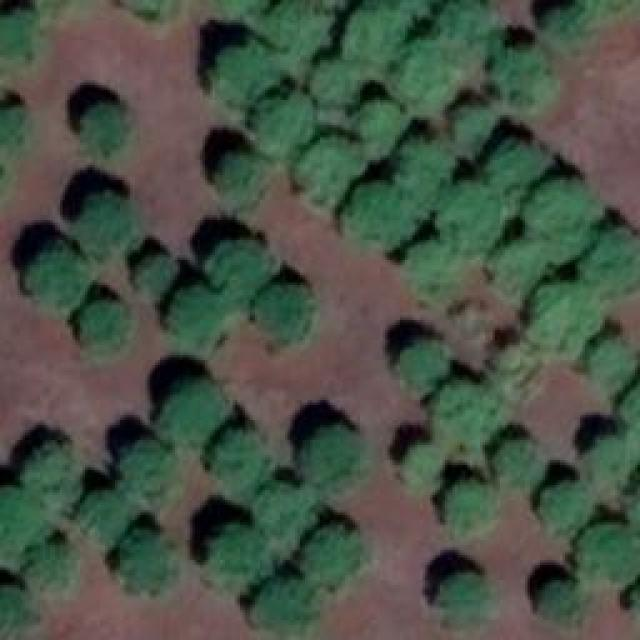Tree: (245, 270, 320, 348), (426, 378, 504, 450), (198, 523, 264, 601), (532, 180, 603, 250), (535, 280, 600, 356), (300, 420, 366, 493), (70, 190, 140, 258), (387, 40, 458, 107), (495, 43, 563, 111), (115, 438, 184, 505), (250, 478, 311, 550), (332, 3, 404, 64), (163, 283, 226, 352), (400, 135, 463, 204), (203, 233, 274, 294), (163, 378, 230, 442), (207, 433, 277, 494), (310, 528, 377, 591), (22, 245, 93, 304), (210, 42, 283, 99), (350, 188, 418, 249), (300, 140, 365, 203), (577, 525, 640, 590), (438, 478, 500, 543), (110, 530, 174, 591), (255, 88, 314, 152), (250, 573, 314, 632), (435, 0, 506, 53), (580, 228, 640, 288), (215, 155, 276, 214), (490, 242, 551, 300), (72, 480, 132, 538), (535, 477, 593, 536), (405, 240, 462, 300), (438, 188, 499, 244), (75, 300, 135, 356), (0, 485, 45, 559), (18, 440, 72, 501), (433, 575, 493, 628), (395, 338, 457, 388), (268, 0, 328, 51), (75, 100, 131, 154), (488, 144, 544, 198), (351, 97, 404, 154), (583, 434, 639, 486), (315, 55, 367, 108), (585, 338, 636, 392), (493, 436, 542, 488), (540, 0, 606, 38), (125, 245, 176, 294), (18, 540, 65, 592), (400, 443, 450, 491), (530, 580, 583, 622), (0, 580, 39, 636), (0, 5, 34, 62), (453, 103, 496, 147), (0, 98, 24, 153)
